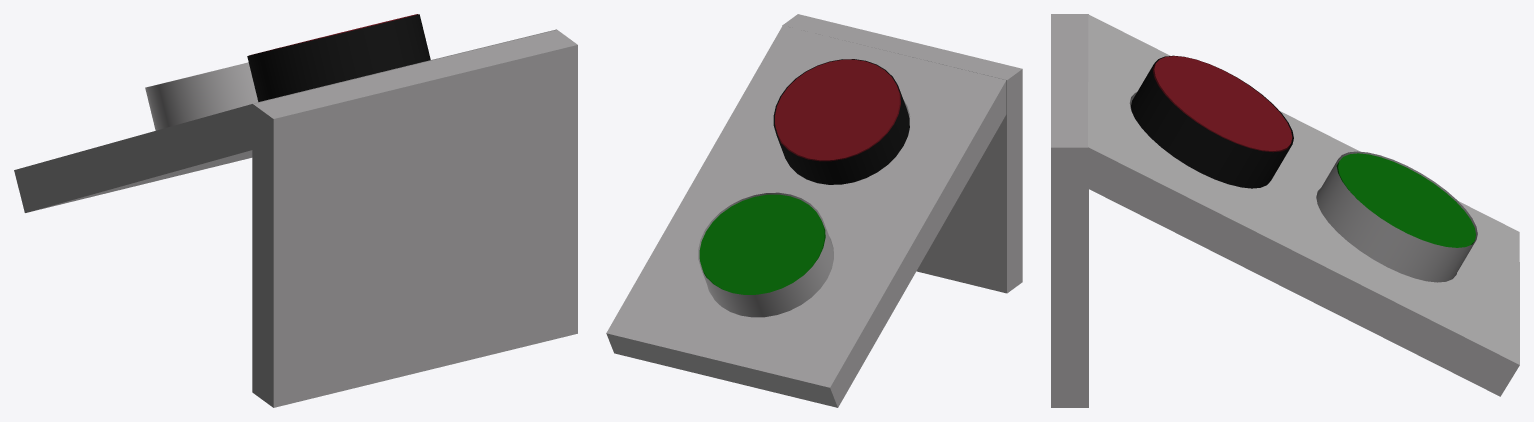
Rendered from control2.fbx.
3 views of the same model, side by side, from view 1: azimuth 30°, elevation 25°; view 2: azimuth 150°, elevation 25°; view 3: azimuth 270°, elevation 25° (orthographic). The views are drawn at different scales.
Parts seen in each view (by area): view 1: Cubo, Cubo.001, Cilindro, Cilindro.004; view 2: Cubo.001, Cubo, Cilindro.003, Cilindro.002, Cilindro, Cilindro.004; view 3: Cubo.001, Cubo, Cilindro.003, Cilindro.002, Cilindro, Cilindro.004.
Boxes of the visible parts, bbox=[...] form: Cubo: bbox=[252, 30, 577, 407]; Cubo.001: bbox=[14, 29, 556, 212]; Cilindro: bbox=[247, 14, 430, 101]; Cilindro.004: bbox=[145, 62, 258, 130]; Cubo.001: bbox=[606, 25, 1006, 407]; Cubo: bbox=[782, 14, 1022, 293]; Cilindro.003: bbox=[775, 59, 900, 161]; Cilindro.002: bbox=[699, 194, 825, 294]; Cilindro: bbox=[773, 59, 909, 184]; Cilindro.004: bbox=[698, 192, 833, 317]; Cubo.001: bbox=[1088, 14, 1519, 396]; Cubo: bbox=[1051, 14, 1088, 407]; Cilindro.003: bbox=[1152, 56, 1292, 152]; Cilindro.002: bbox=[1336, 153, 1475, 247]; Cilindro: bbox=[1131, 55, 1293, 188]; Cilindro.004: bbox=[1316, 151, 1477, 282].
Bounding box in the file's own units: 390 × 371 × 578.
